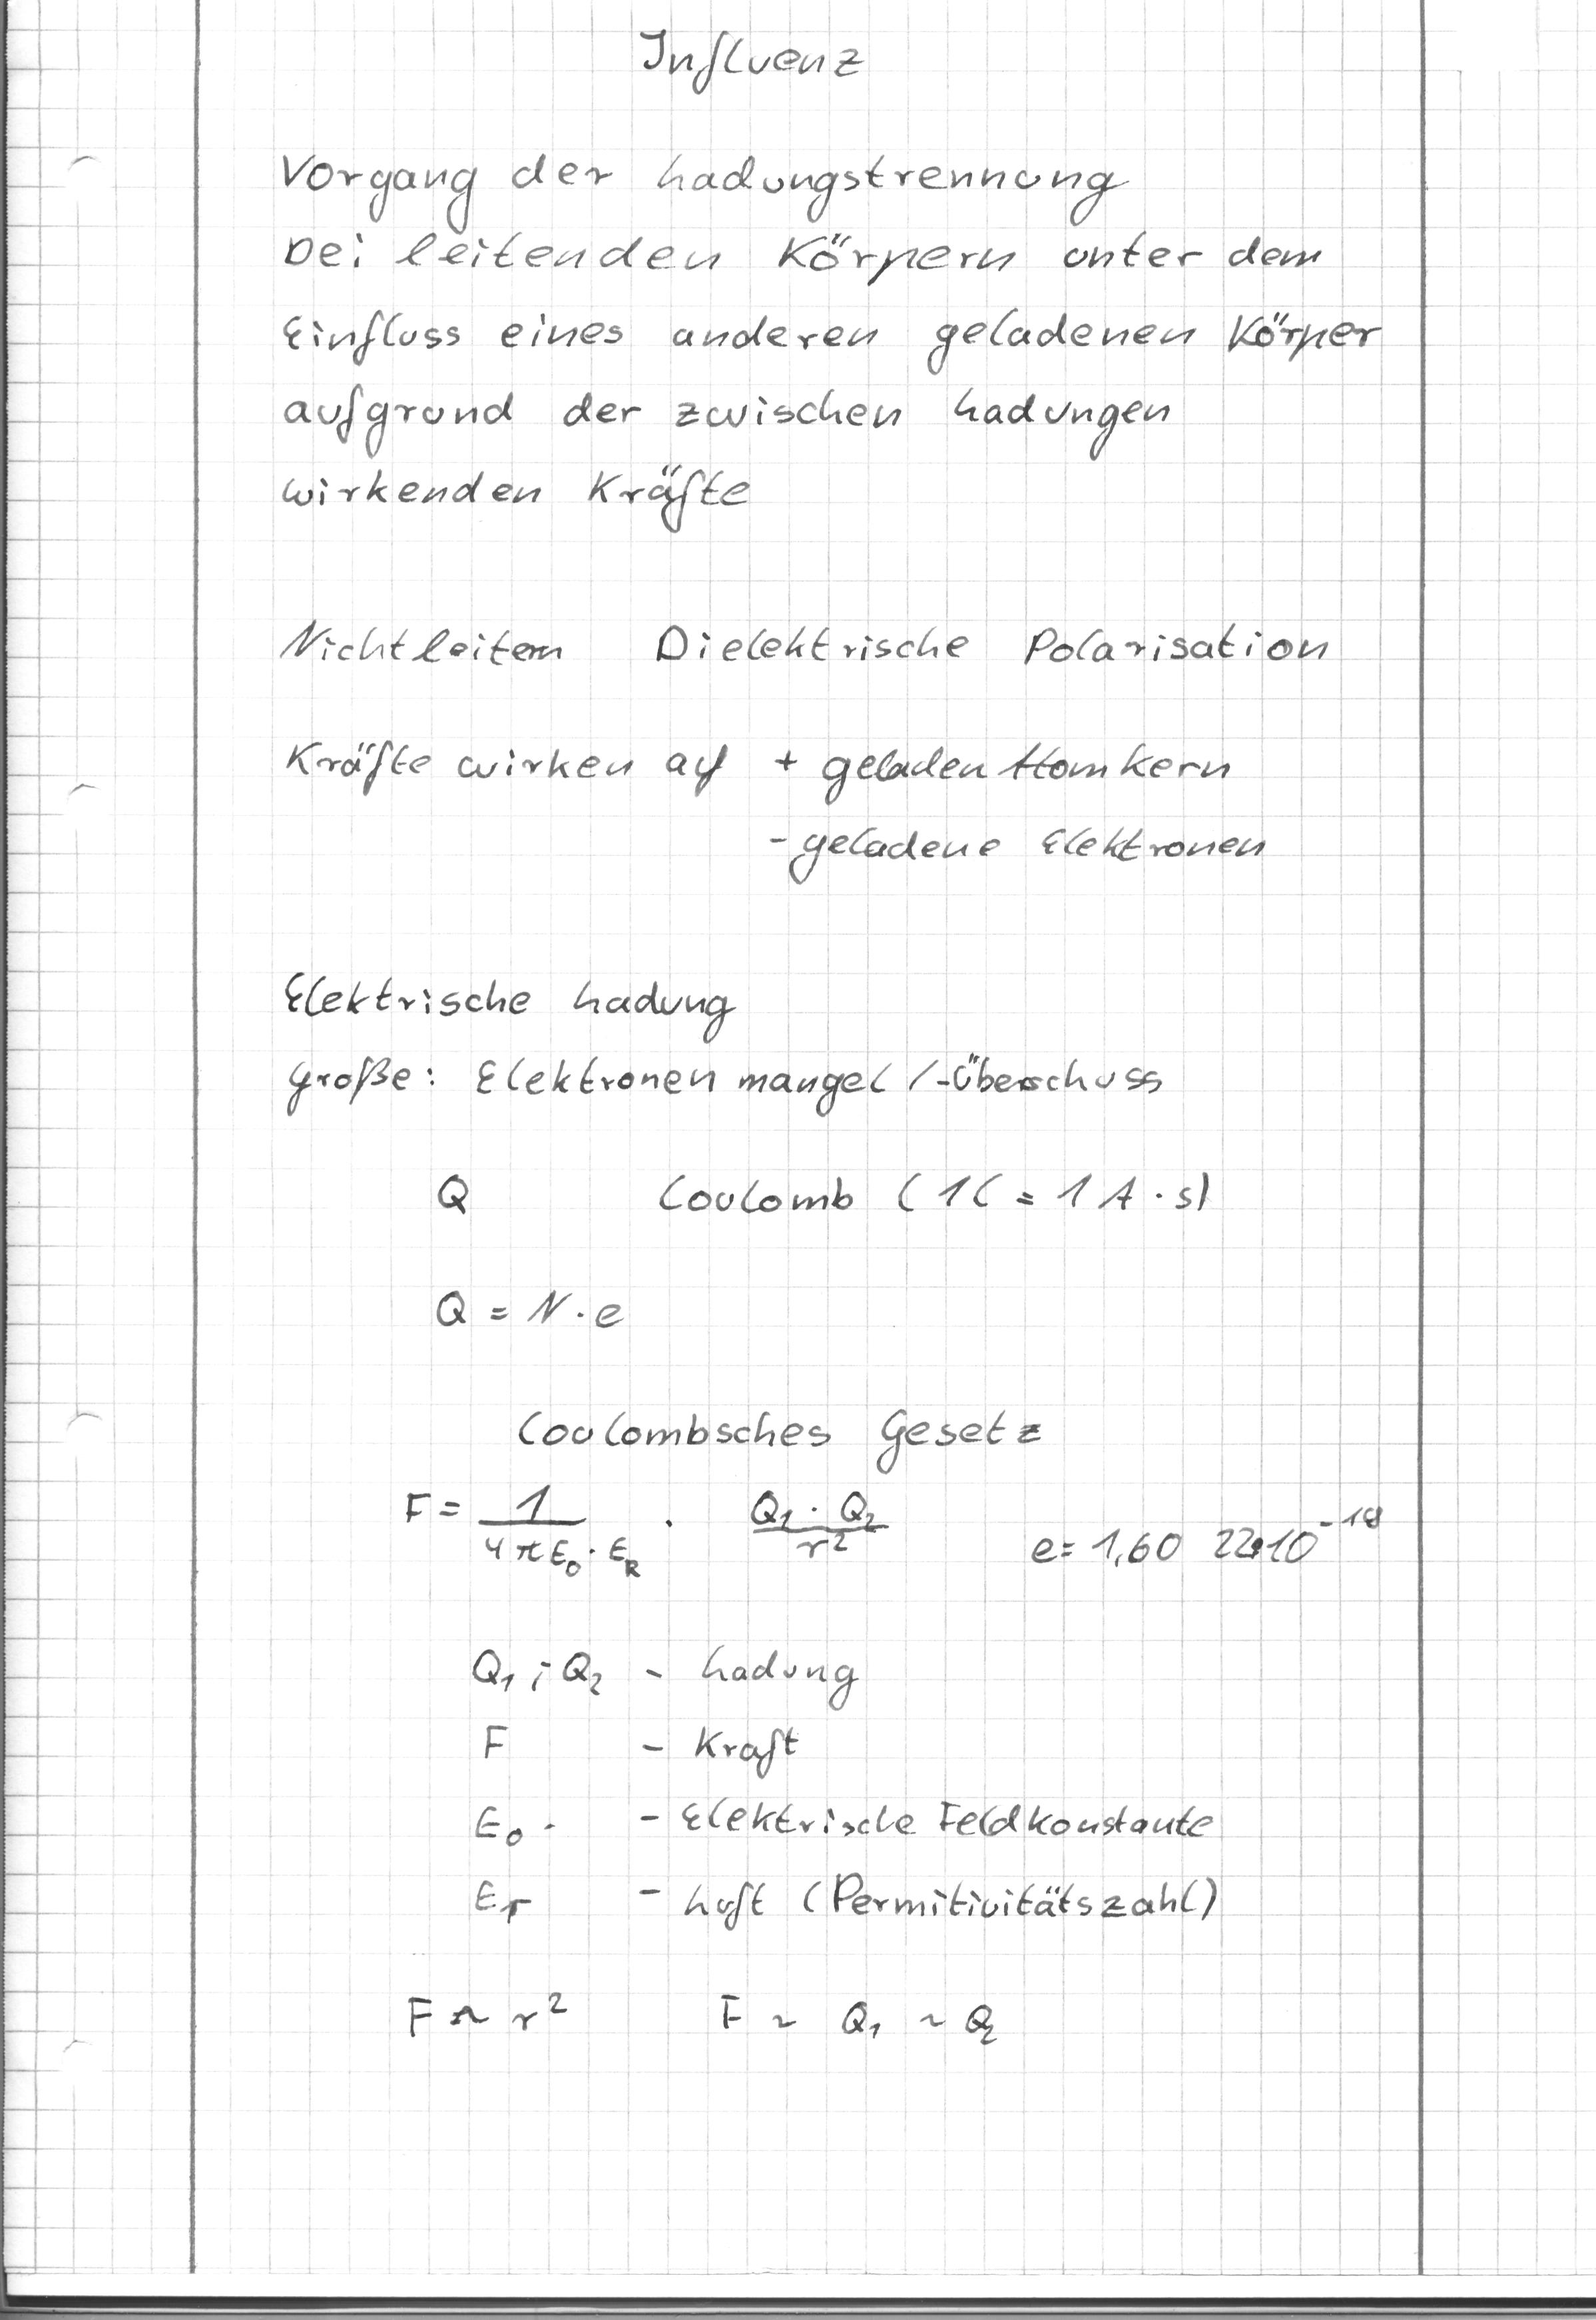word: (266, 139, 1390, 543), (270, 960, 1189, 1133), (387, 1478, 1394, 1599), (469, 1789, 1253, 1940), (268, 600, 1336, 691), (750, 741, 1268, 914), (458, 1636, 866, 1784), (495, 1392, 1051, 1480), (271, 721, 745, 814), (642, 1159, 1224, 1227), (705, 1971, 1035, 2075), (616, 19, 876, 108), (388, 1972, 591, 2069), (418, 1273, 655, 1338)
